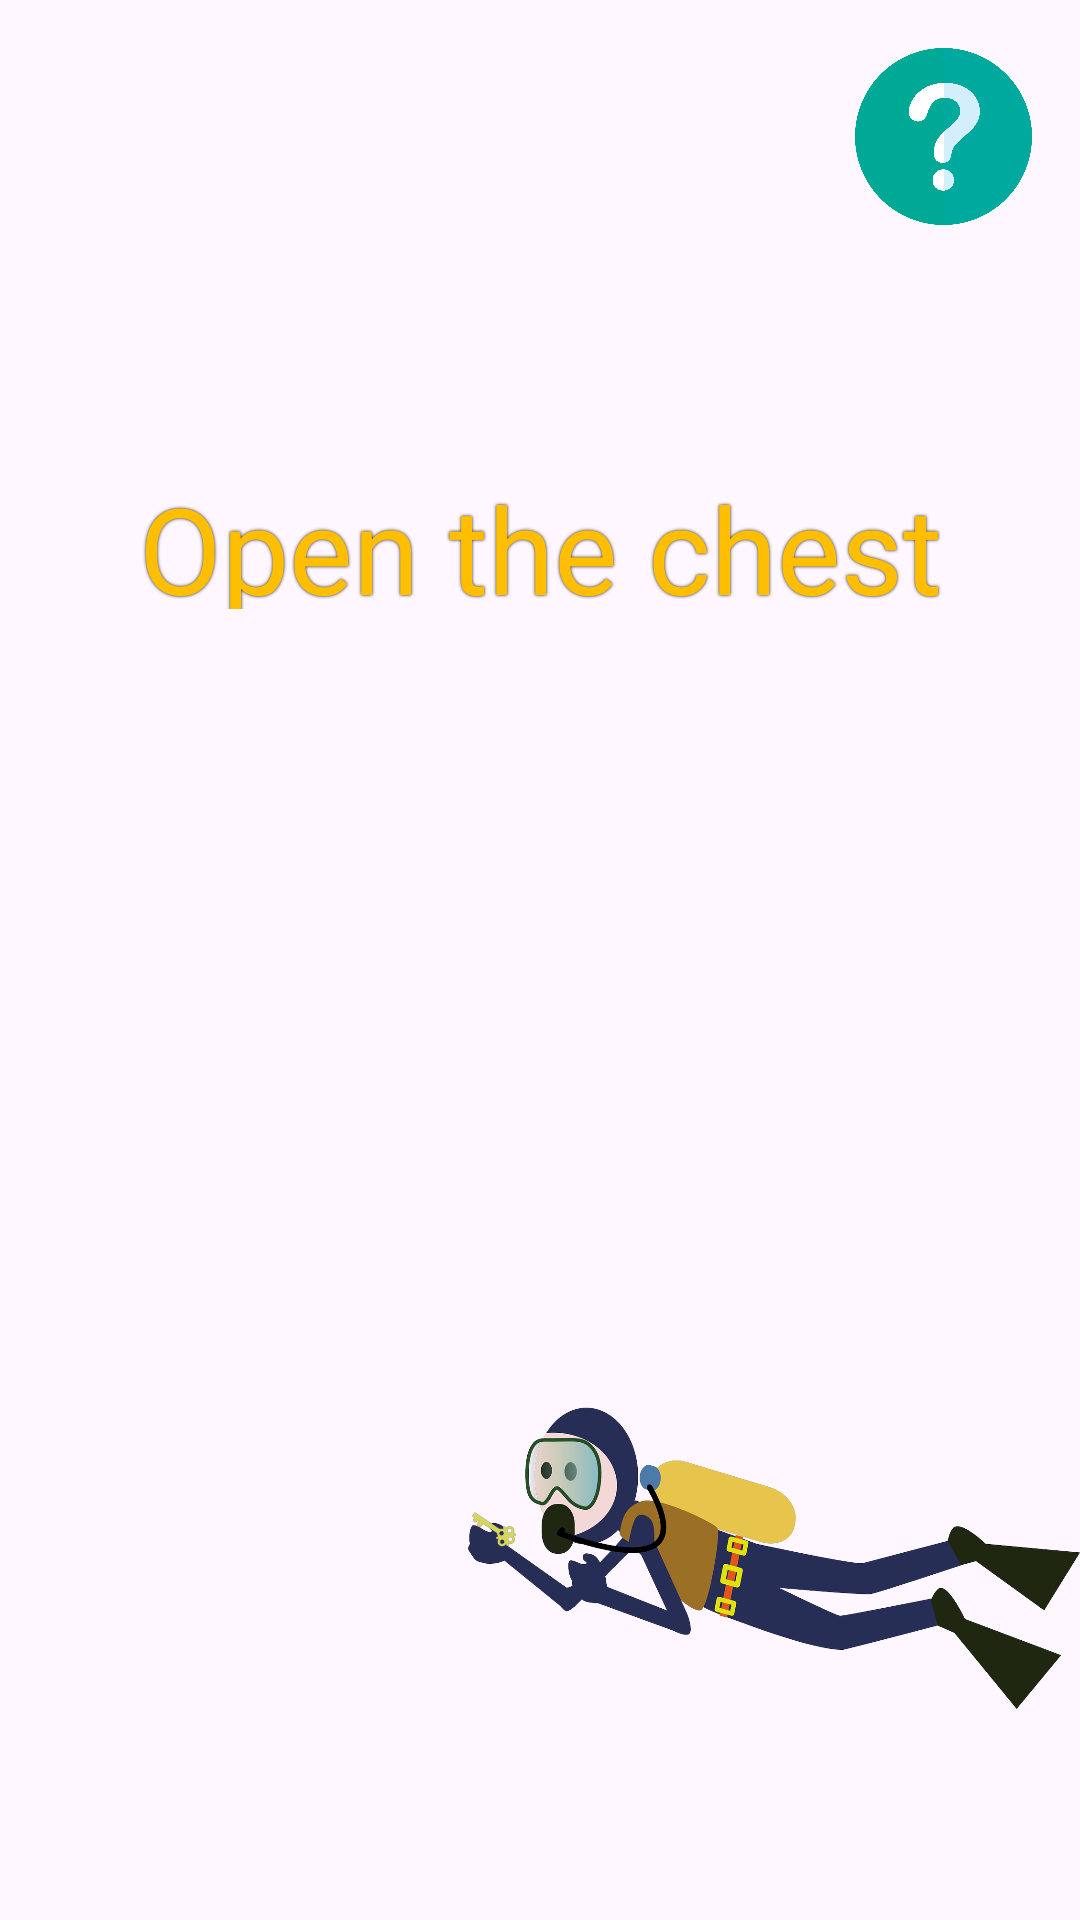

Named icons in this screenshot (1080px x 1920px) and their centers, (x,y):
Help: (943,136)
